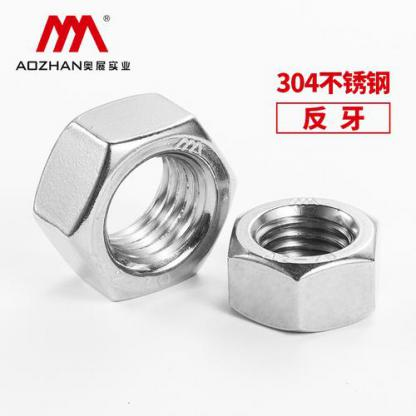FOD: (31, 92, 243, 309), (226, 190, 381, 336)
